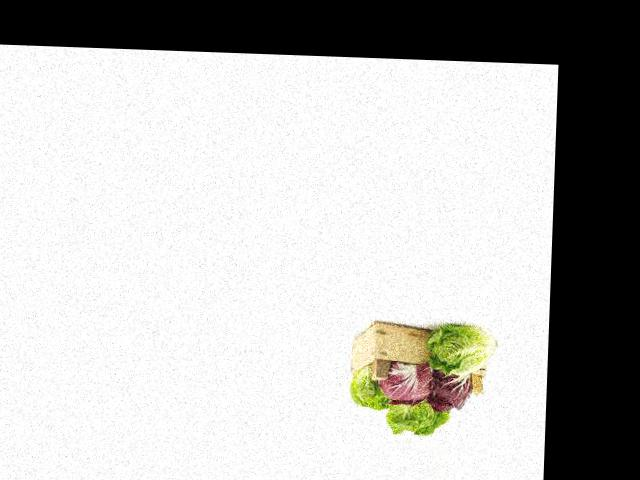lettuce: (316, 296, 471, 439)
